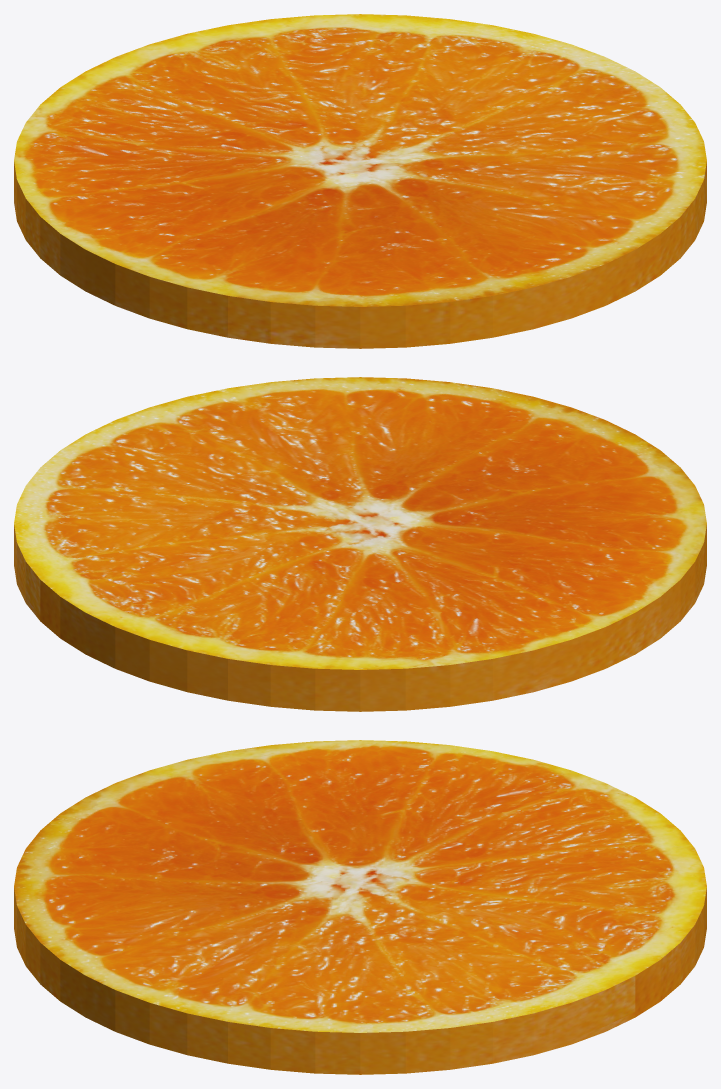
File: 오렌지원형.fbx
3 renders of one model, top to bottom at view 1: azimuth 30°, elevation 25°; view 2: azimuth 150°, elevation 25°; view 3: azimuth 270°, elevation 25°, orthographic.
Parts seen in each view (by area): view 1: Cylinder.001; view 2: Cylinder.001; view 3: Cylinder.001.
Boxes of the visible parts, x1=… form: Cylinder.001: x1=14, y1=14, x2=706, y2=348; Cylinder.001: x1=14, y1=377, x2=706, y2=711; Cylinder.001: x1=14, y1=740, x2=706, y2=1074.
Size of the model in its own units: 200 by 13.33 by 200.
